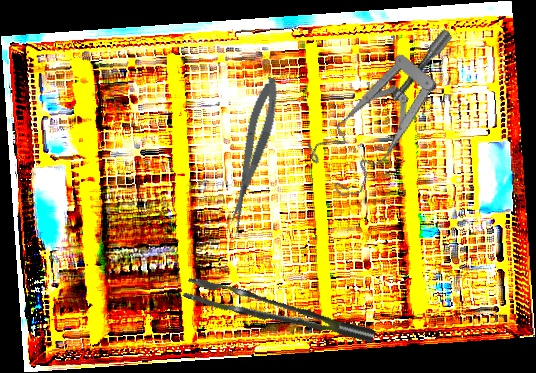Micro Scissor: (220, 74, 286, 229)
Speculum: (286, 27, 497, 206)
Tissue Forceps: (182, 258, 376, 369)
